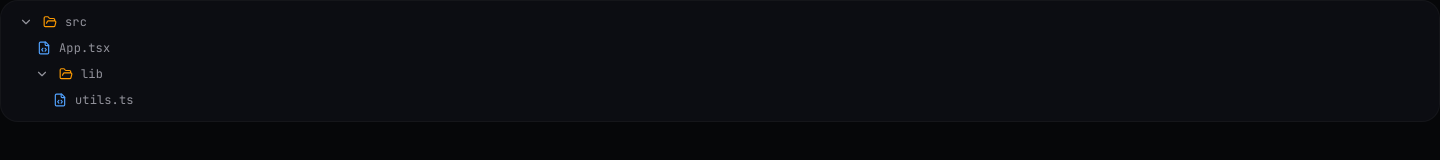
Test: TreeView — WAI-ARIA tree pattern › toggles aria-expanded and collapses the group on click
Click the list item "src" at {"x": 52, "y": 22}, box [17, 13, 87, 31]
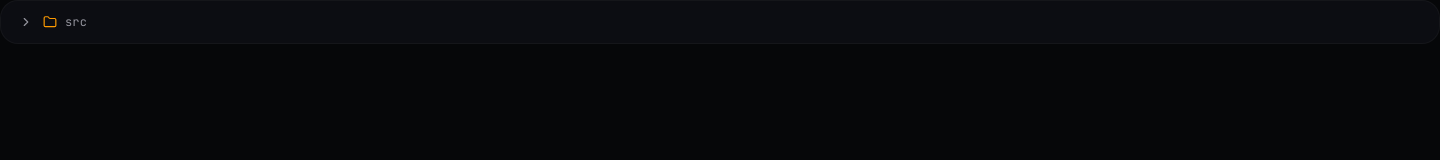
Expected: the list item is collapsed, [17, 13, 87, 31]
Expected: the text "utils.ts" is gone
